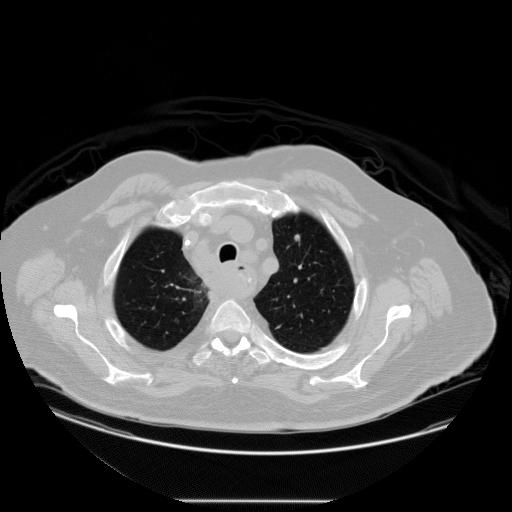nodule: (291, 231, 304, 244)
